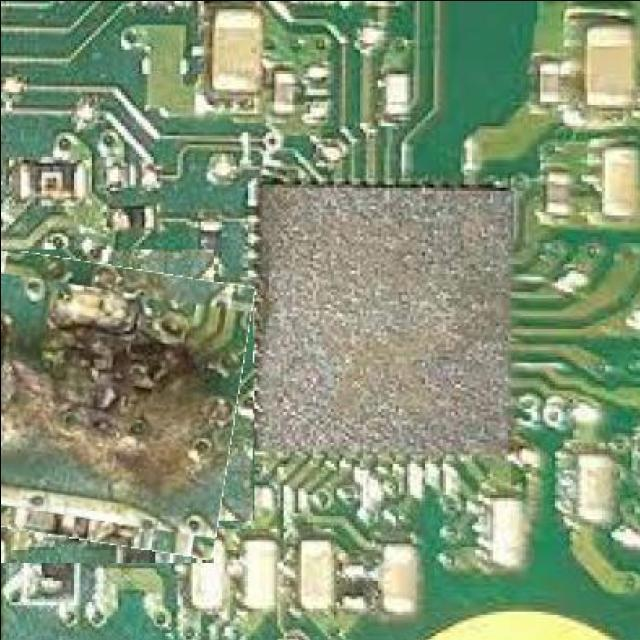Burn: (0, 256, 244, 550)
